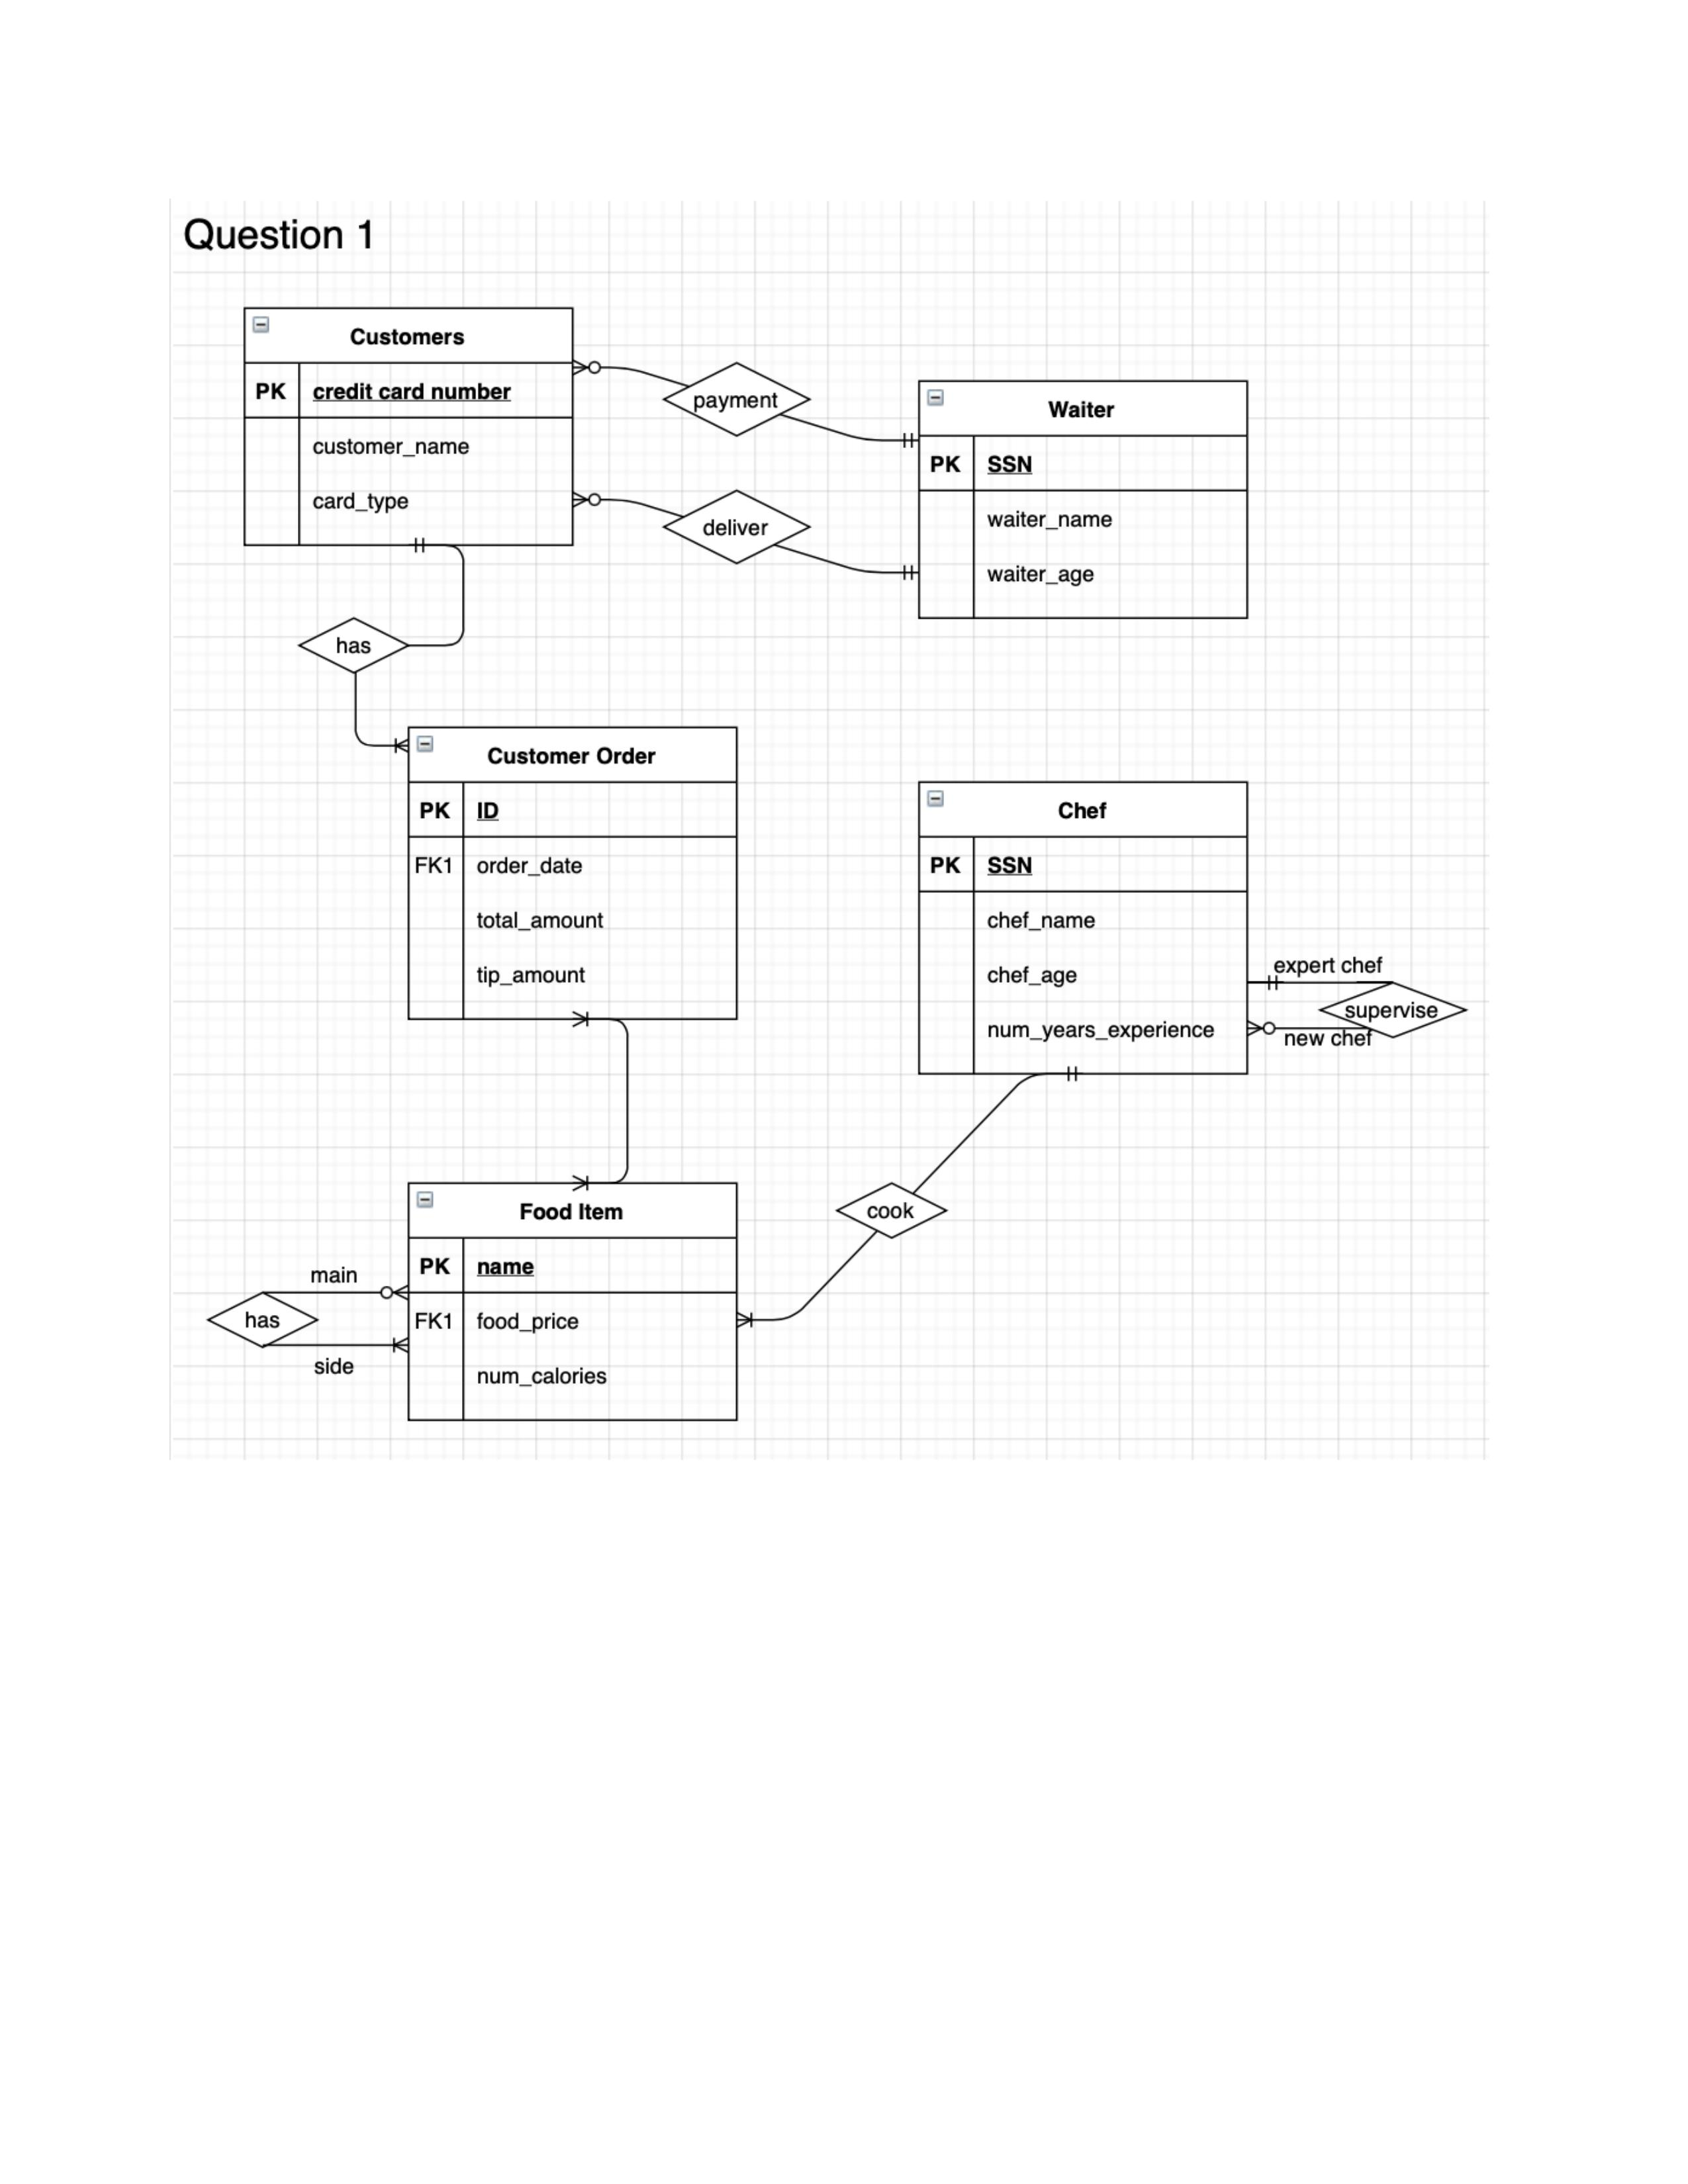Entity: (915, 778, 1252, 1076), (406, 725, 739, 1023), (241, 303, 576, 548), (917, 379, 1252, 622), (406, 1181, 739, 1423)
Relationship: (661, 489, 812, 567), (661, 362, 812, 438), (1317, 982, 1468, 1039), (206, 1291, 319, 1349), (835, 1182, 949, 1239), (298, 617, 410, 674)
